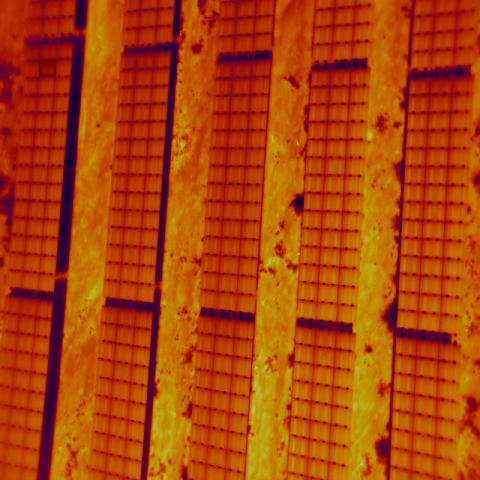fault: (39, 59, 56, 77)
